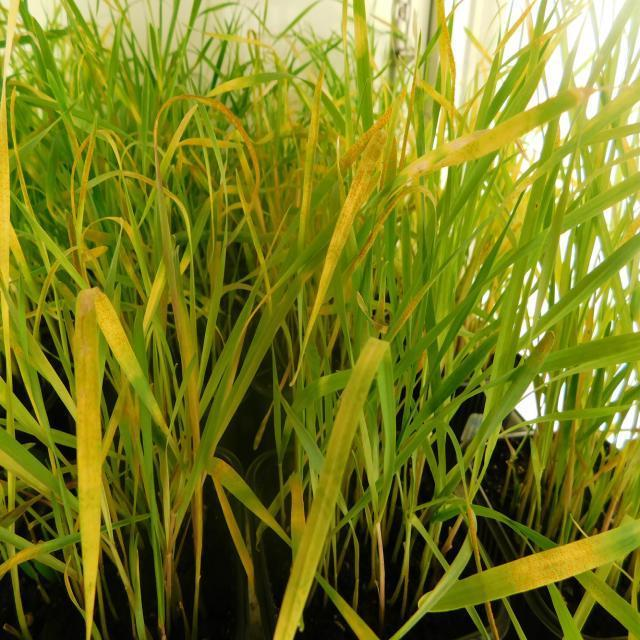Yellow_Rust: (271, 336, 387, 639), (292, 124, 387, 377), (426, 517, 639, 611), (71, 288, 130, 626)
